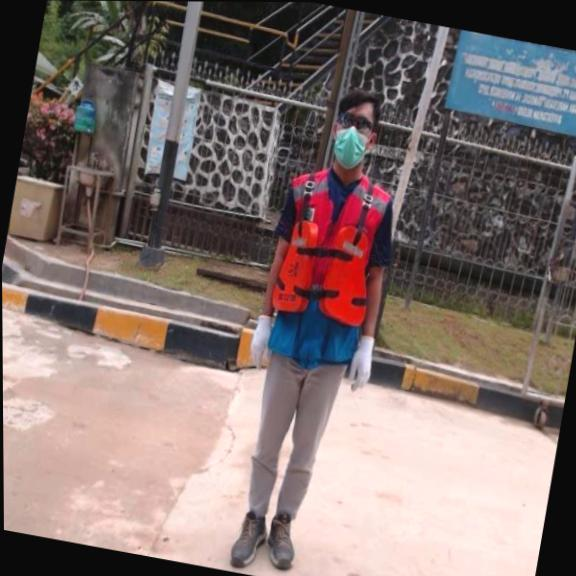safety_vest: (267, 212, 381, 329)
